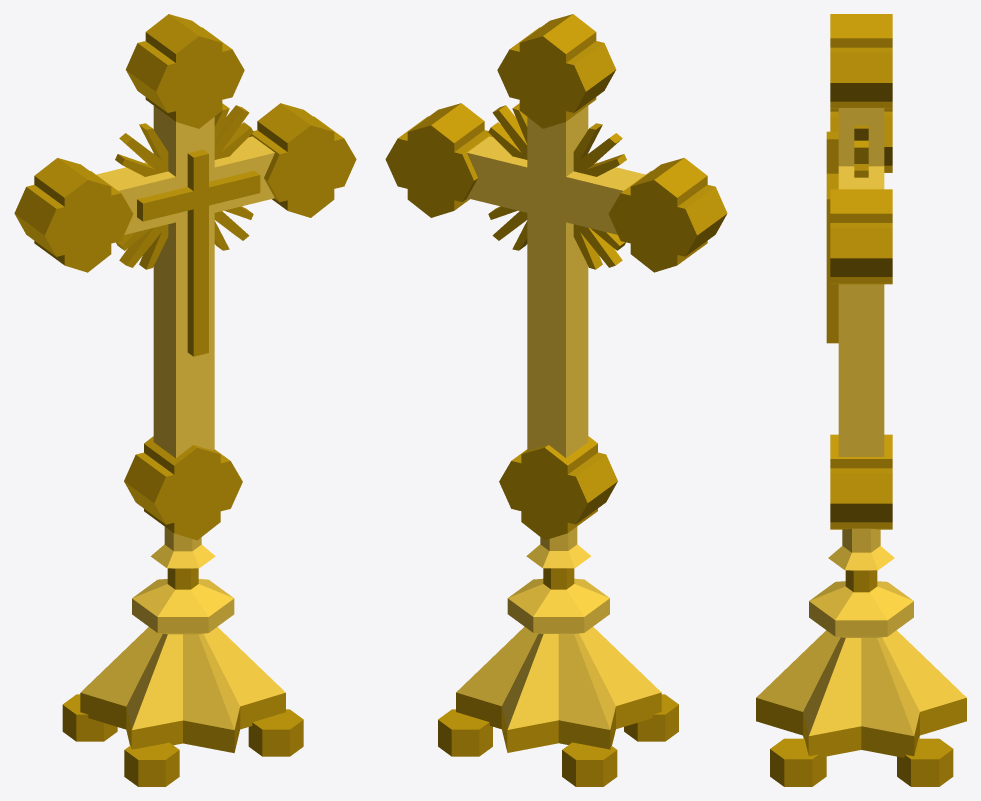
Rendered from ChurchGoldCross.glb.
3 renders of one model, left to right at view 1: azimuth 30°, elevation 25°; view 2: azimuth 150°, elevation 25°; view 3: azimuth 270°, elevation 25°, orthographic. The views are drawn at different scales.
Visible parts, largest first — view 1: GoldCross; view 2: GoldCross; view 3: GoldCross.
Part boxes in pixels (x1=…): GoldCross: x1=14, y1=14, x2=356, y2=786; GoldCross: x1=385, y1=14, x2=727, y2=786; GoldCross: x1=756, y1=14, x2=966, y2=786.
Bounding box in the file's own units: 0.6298 × 1.38 × 0.3595.
1 material, 1 textured.
